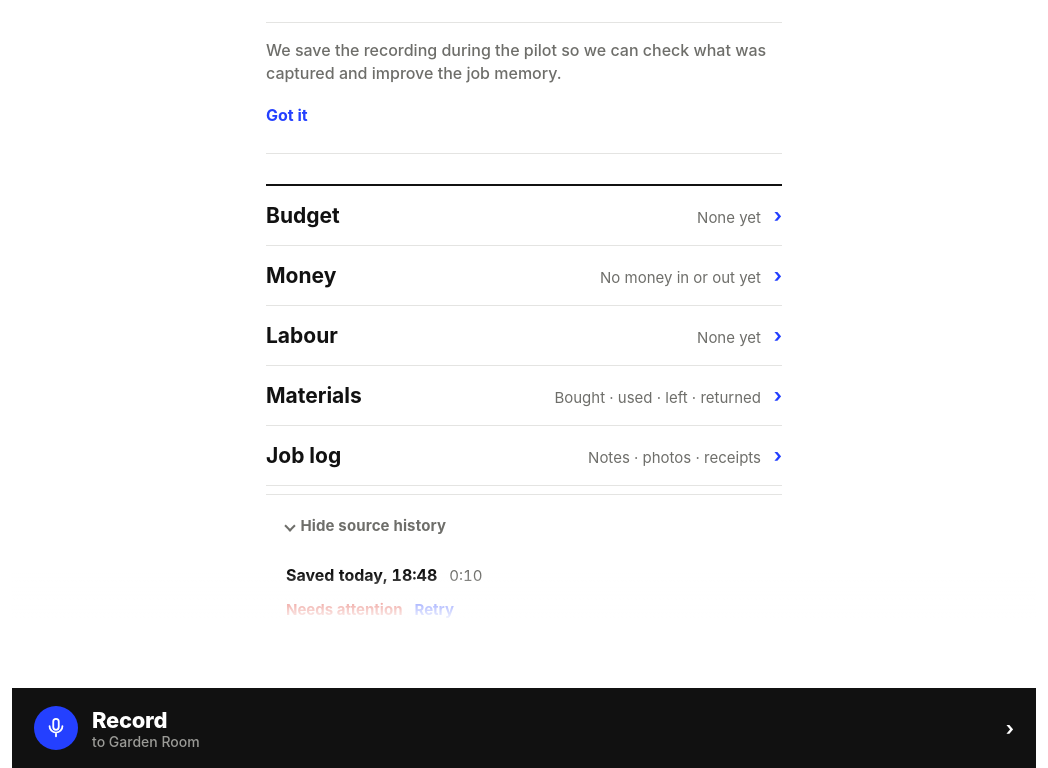
Scenario: CurrentJobWorkspace — capture › retrying a failed note does not create a duplicate
The width and height of the screenshot is (1048, 768).
(page scrolled)
Step 1. Click the button "Retry" → {"x": 434, "y": 610}, box [414,588,454,632]
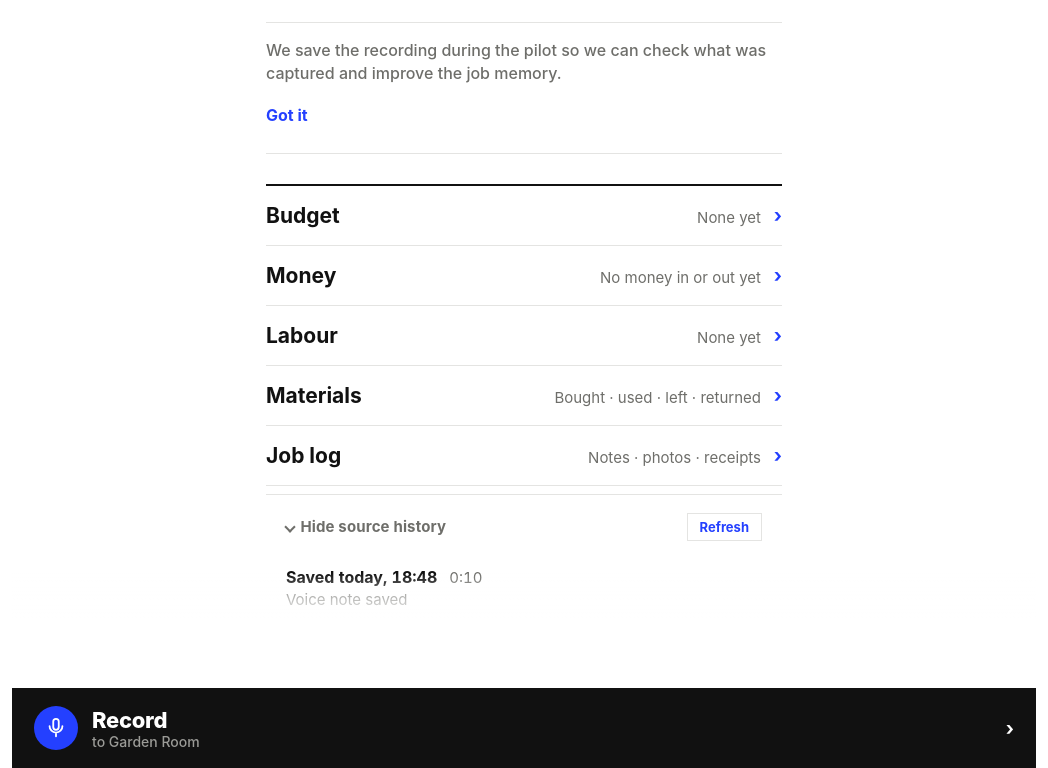
Expected: the button "Retry" is gone
